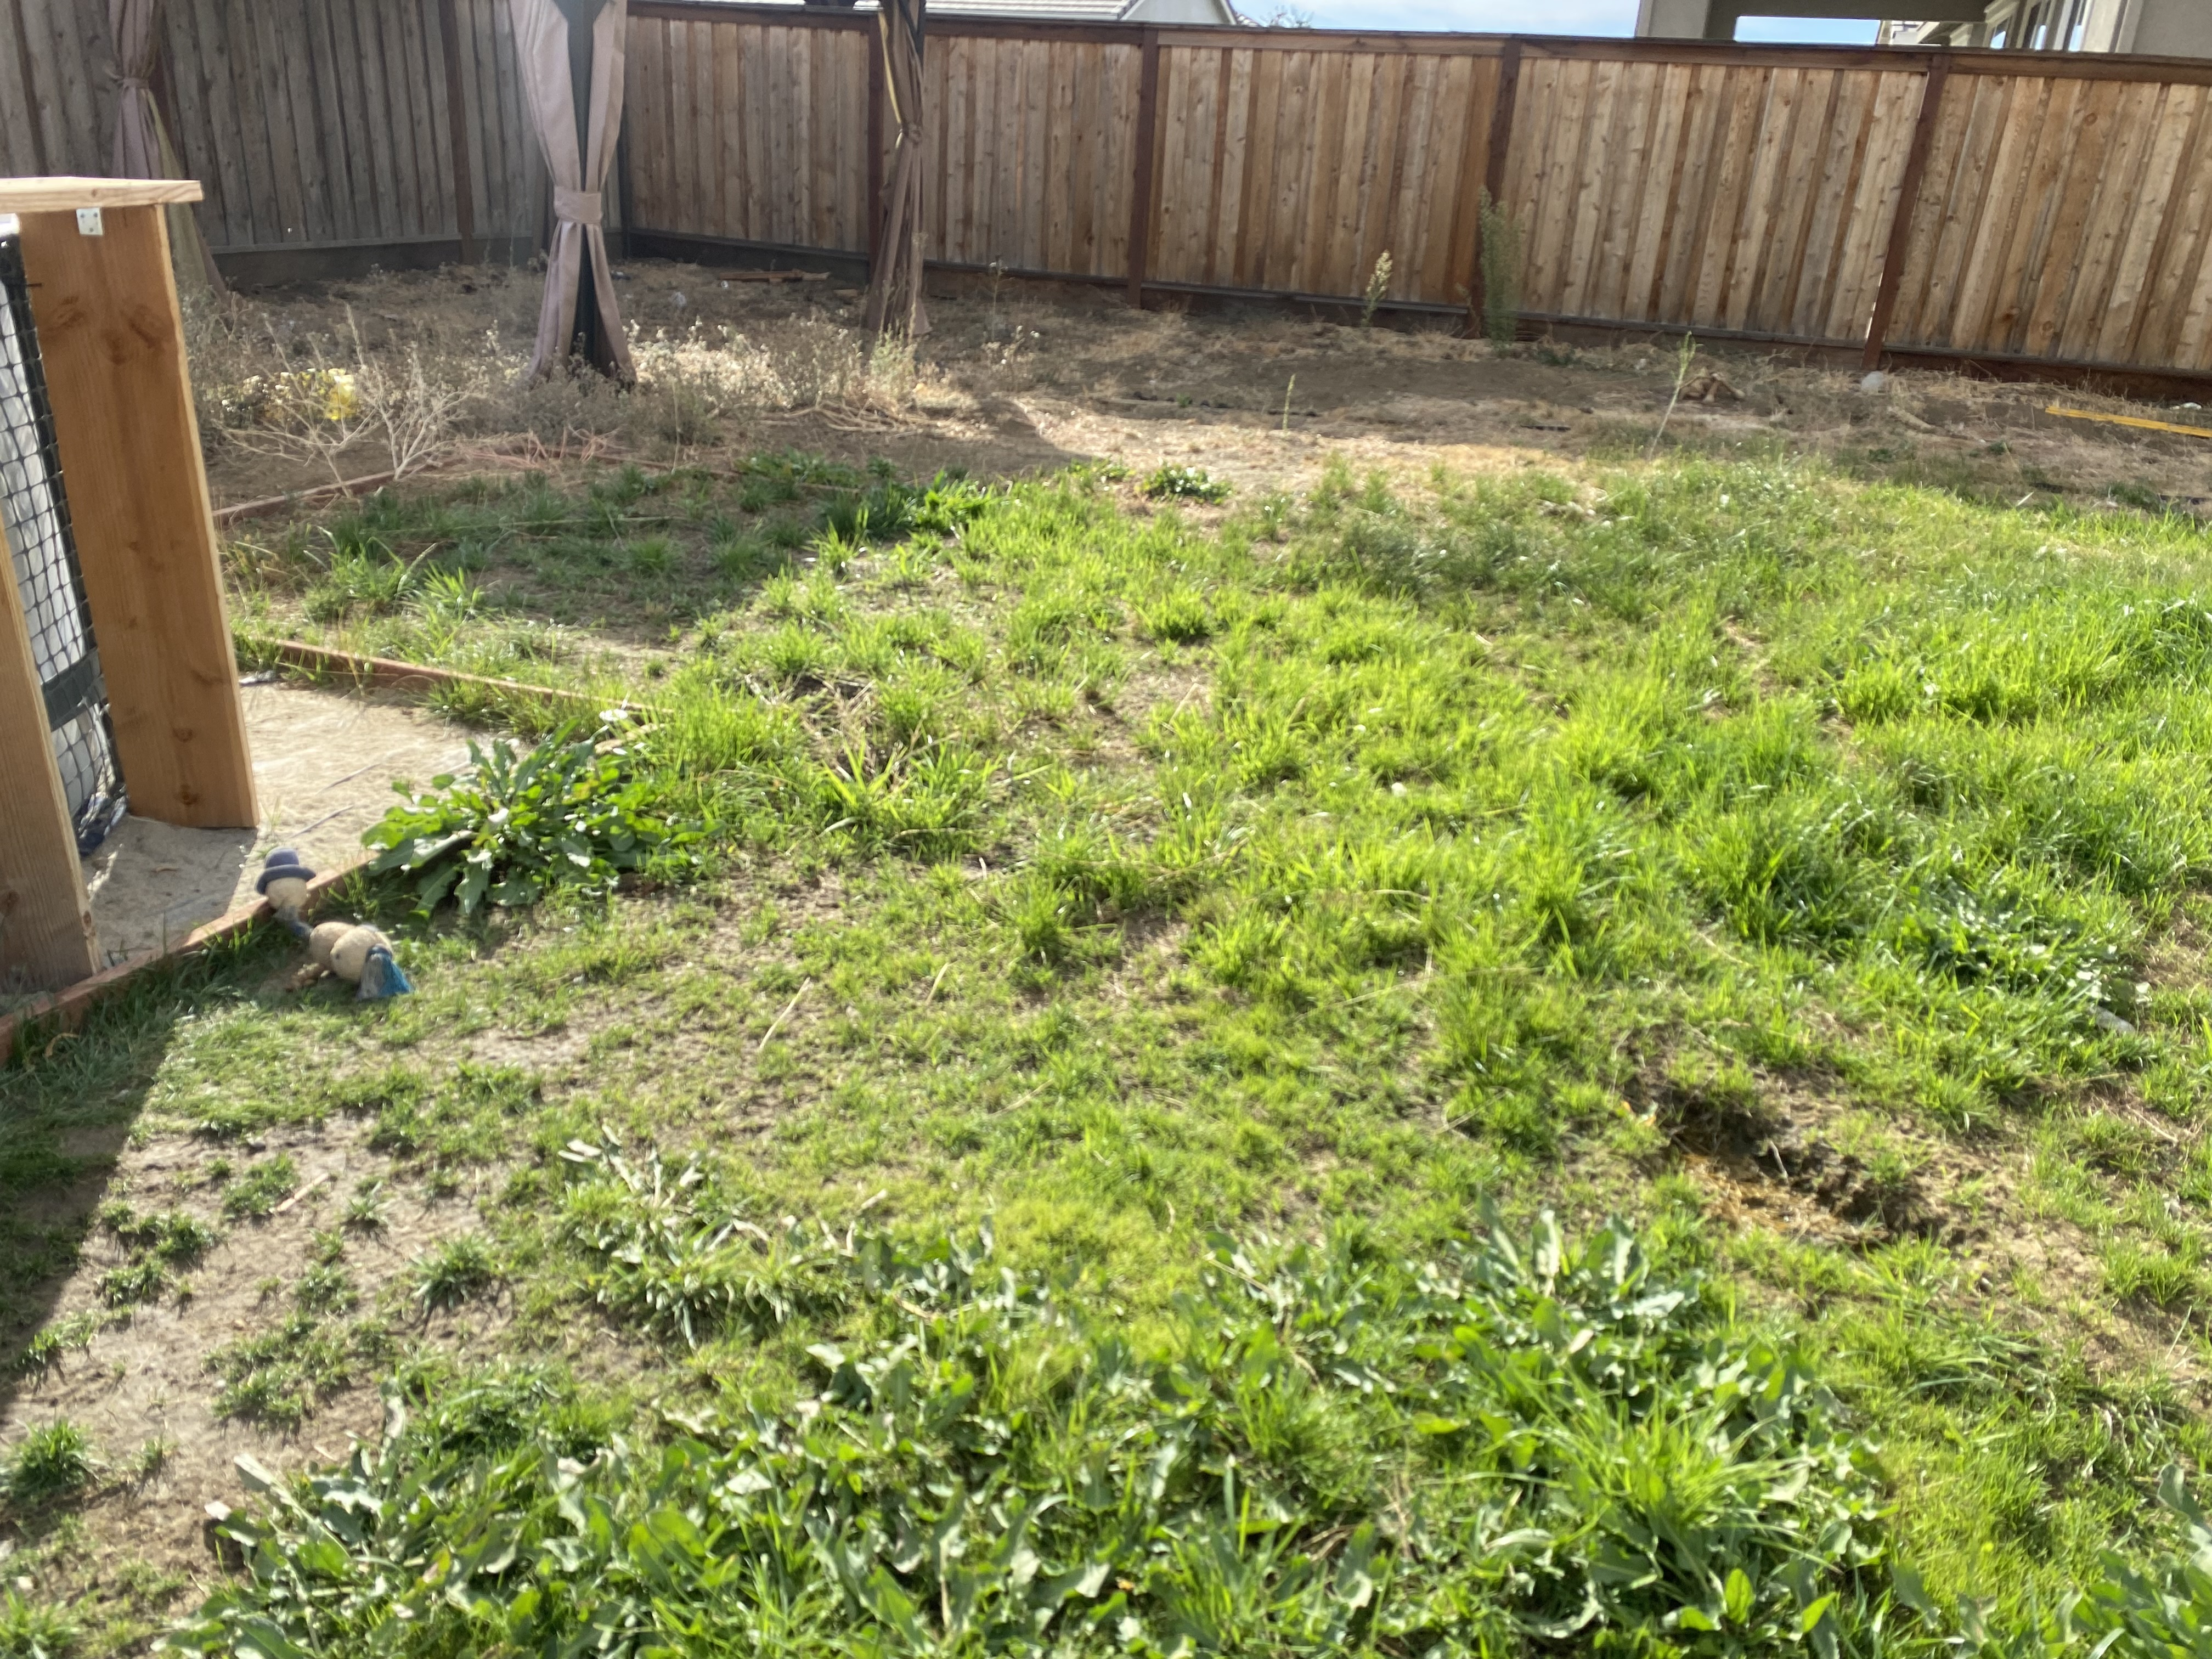weed: (841, 1387, 1336, 1647), (1500, 1344, 1905, 1601), (484, 1392, 845, 1619), (195, 1432, 559, 1631), (1357, 1222, 1677, 1387), (378, 716, 646, 903), (552, 1134, 803, 1307), (1878, 843, 2144, 992)
